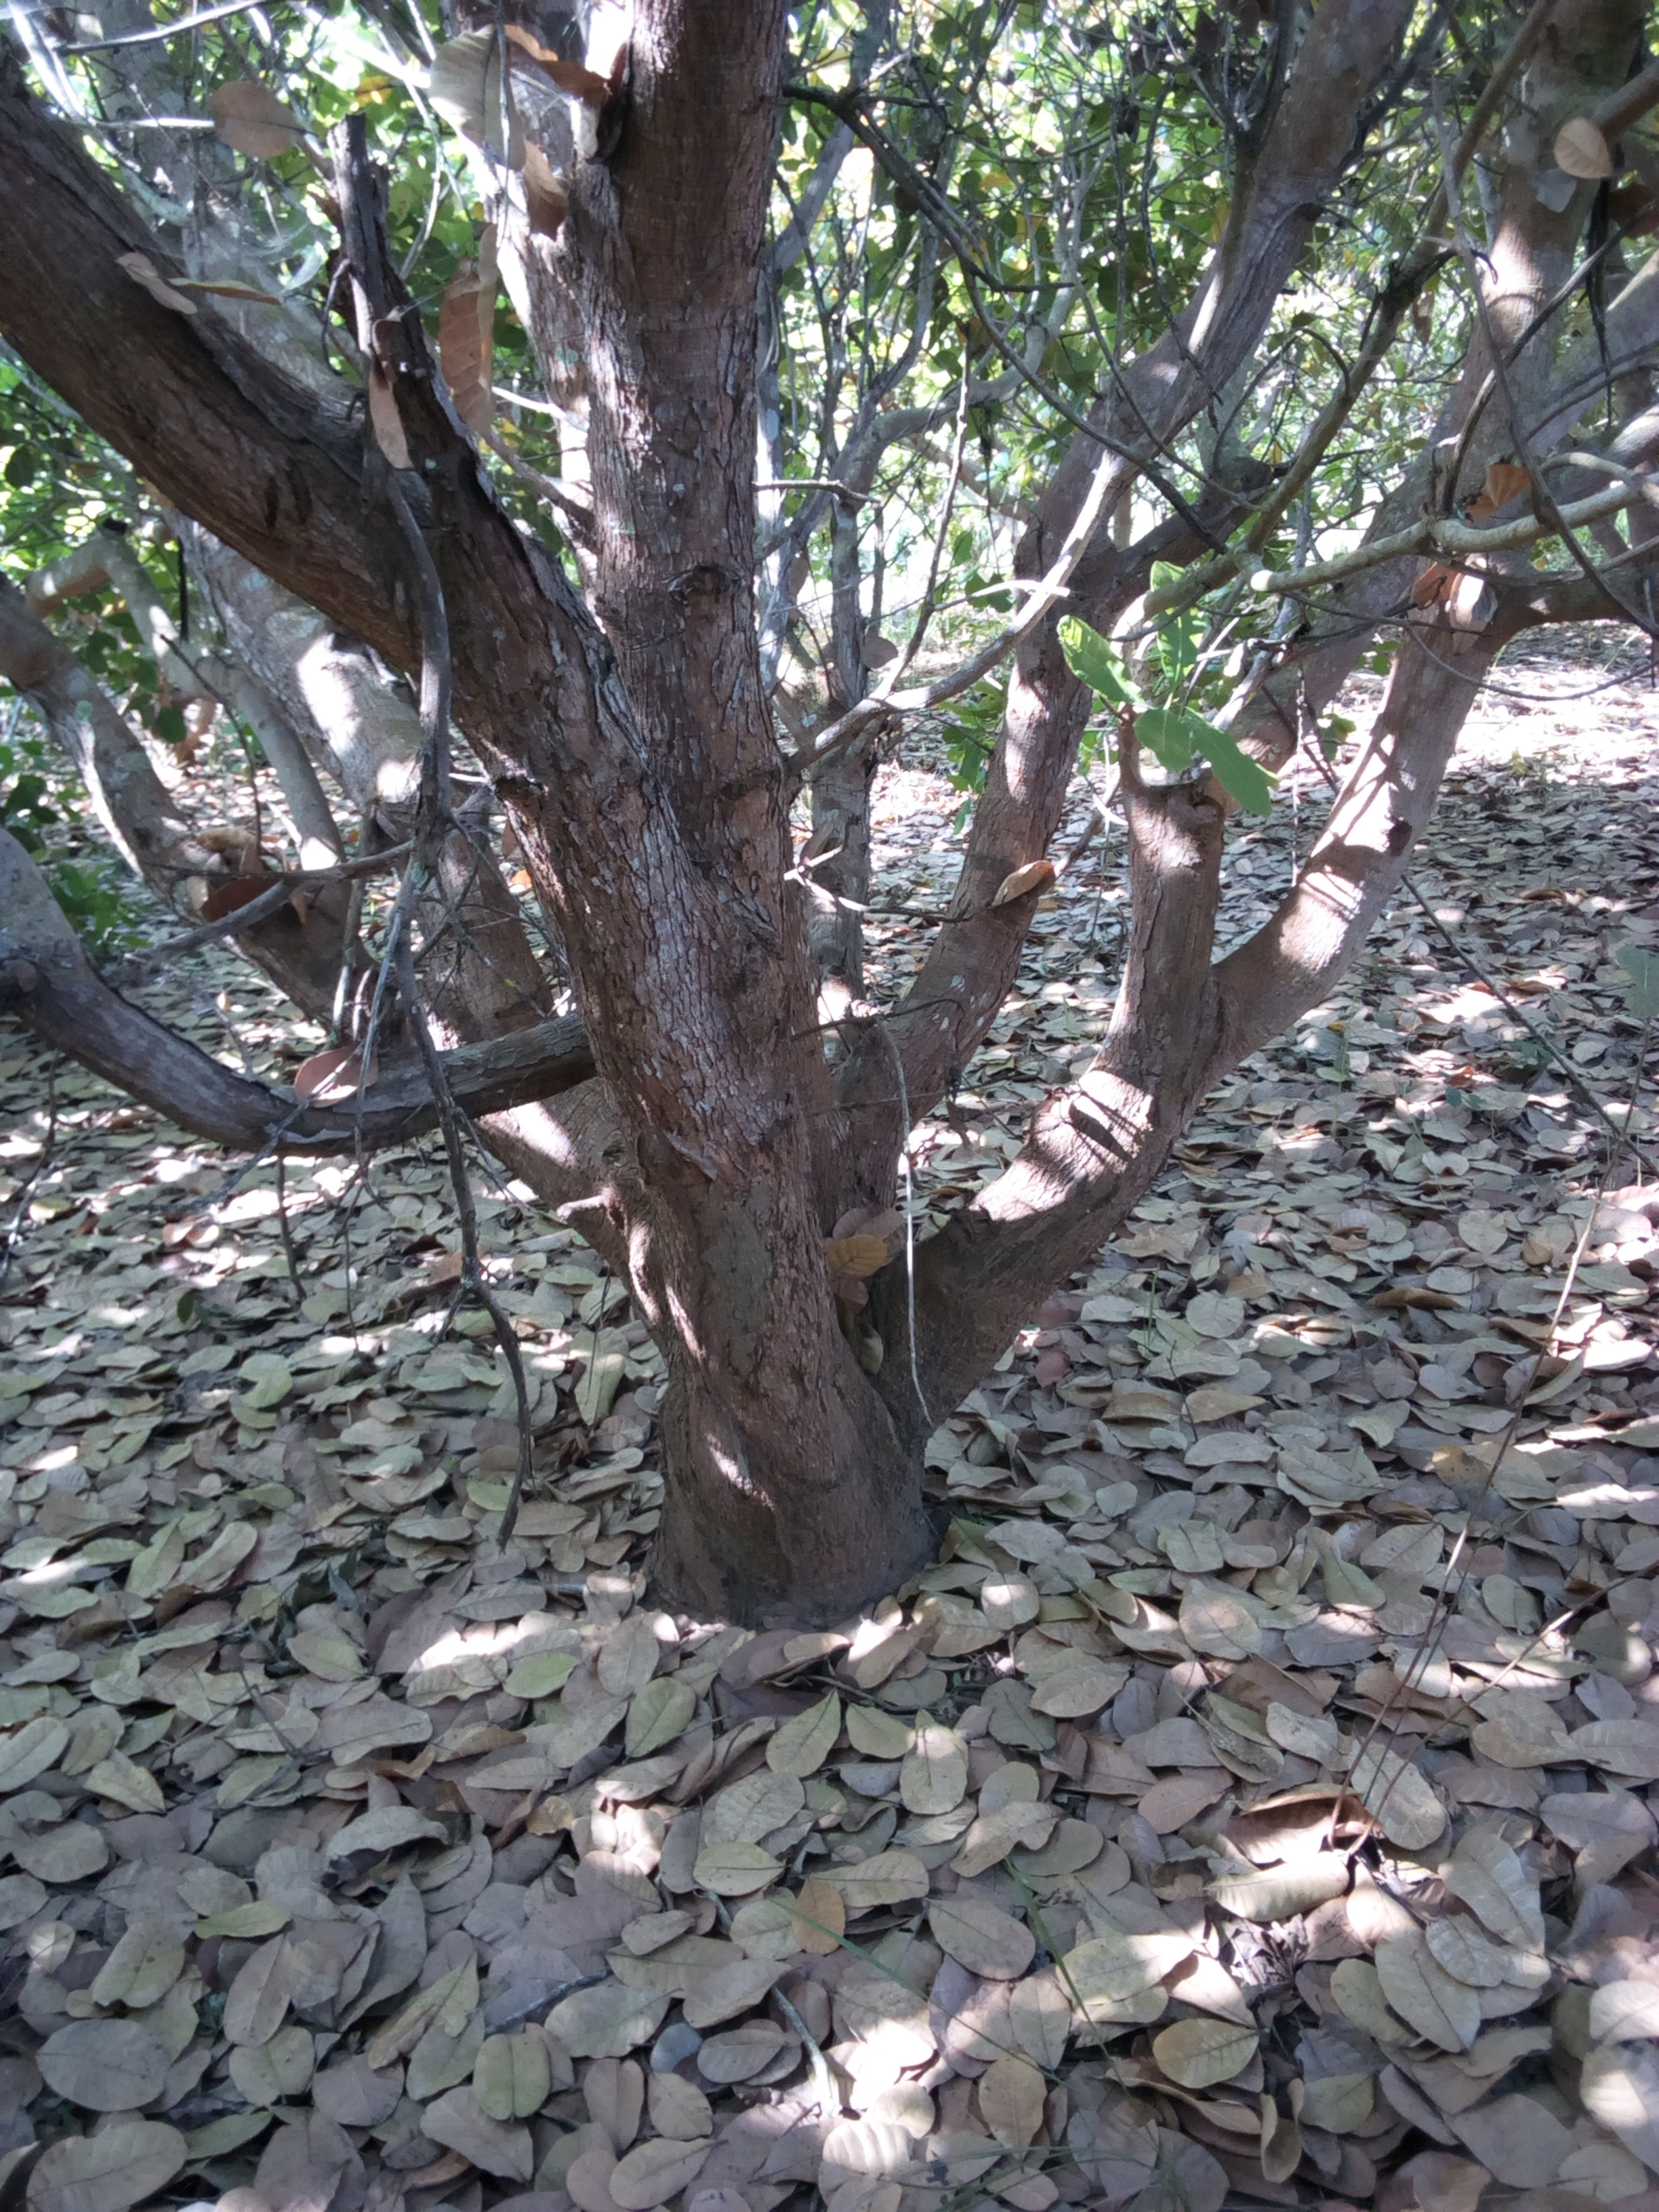Termites: (640, 841, 904, 1568)
